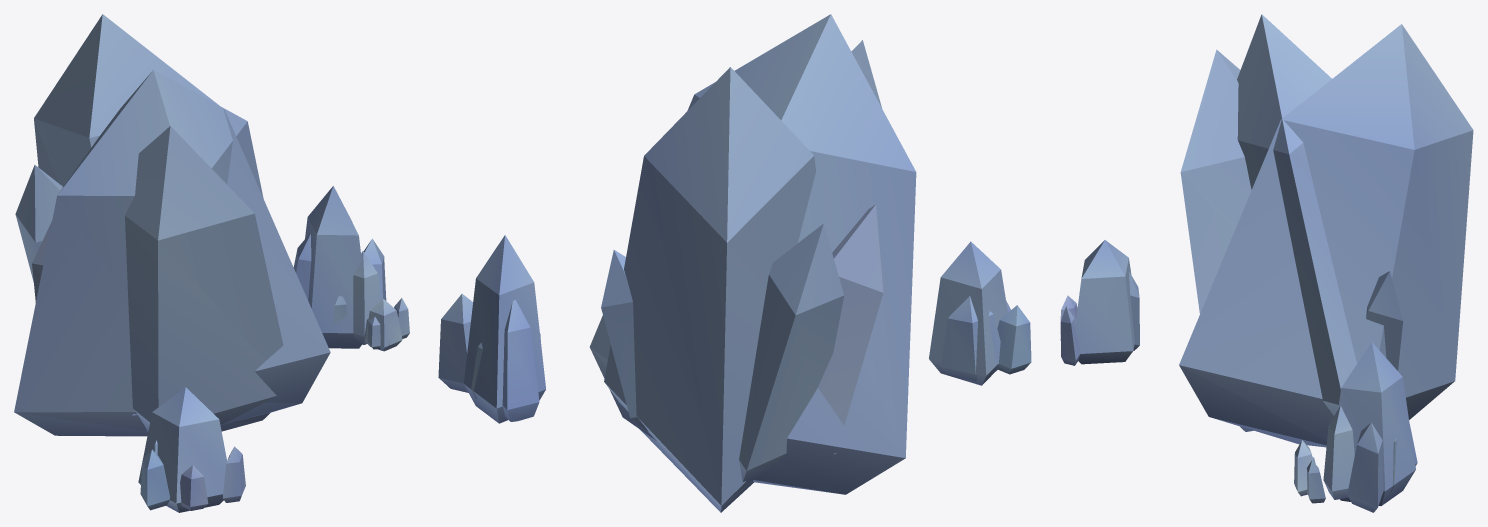
File: crystal_cluster_v3.glb
The picture shows the model from 3 angles, left to right: view 1: azimuth 30°, elevation 25°; view 2: azimuth 150°, elevation 25°; view 3: azimuth 270°, elevation 25°; orthographic projection. The views are drawn at different scales.
Visible parts, largest first — view 1: crystal_cluster_v3.glb; view 2: crystal_cluster_v3.glb; view 3: crystal_cluster_v3.glb.
Part boxes in pixels (bbox=[...]): crystal_cluster_v3.glb: bbox=[14, 14, 409, 512]; crystal_cluster_v3.glb: bbox=[438, 14, 1031, 512]; crystal_cluster_v3.glb: bbox=[1060, 14, 1473, 512].
Bounding box in the file's own units: 1 × 0.9708 × 0.9085.
